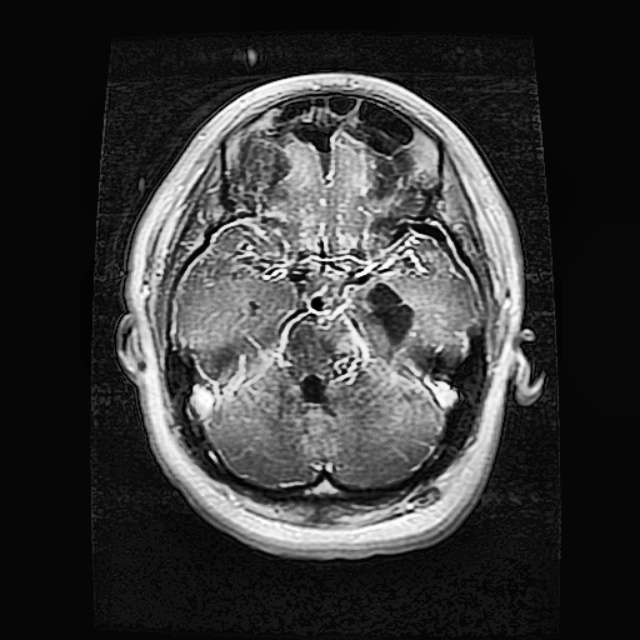Meningioma: (364, 278, 415, 353)
